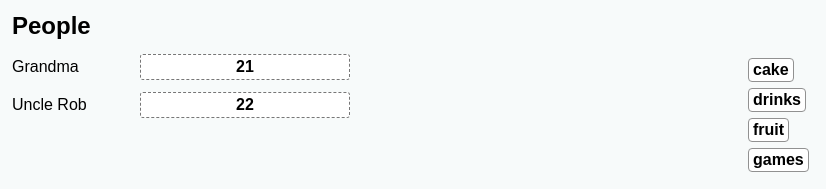
Scenario: DragDropMatch (A2 Listening Part 5) › takes a card back out of its slot
Click the button "fruit" at (769, 130), box [748,118,789,142]
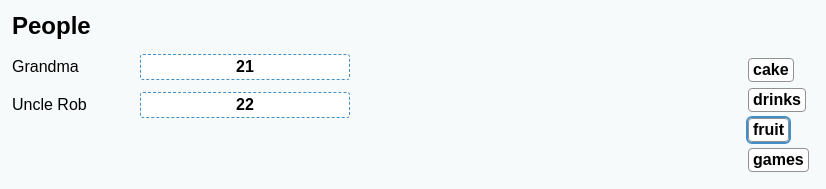
Click the button named "Question 21, Grandma, empty" at (245, 67), box [141,55,349,79]
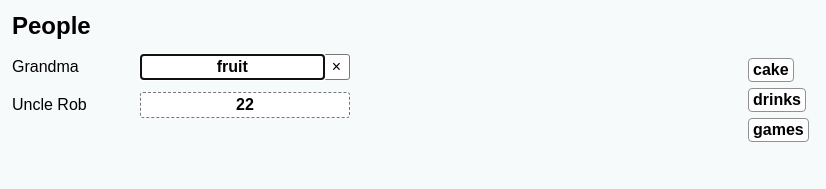
Click the button named "Remove fruit from question 21" at (336, 67), box [324,58,349,76]
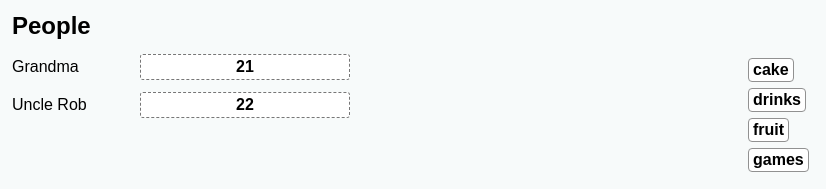
Check: the button "fruit" is shown, box [748,118,789,142]
Check: the button named "Question 21, Grandma, empty" is shown, box [141,55,349,79]
